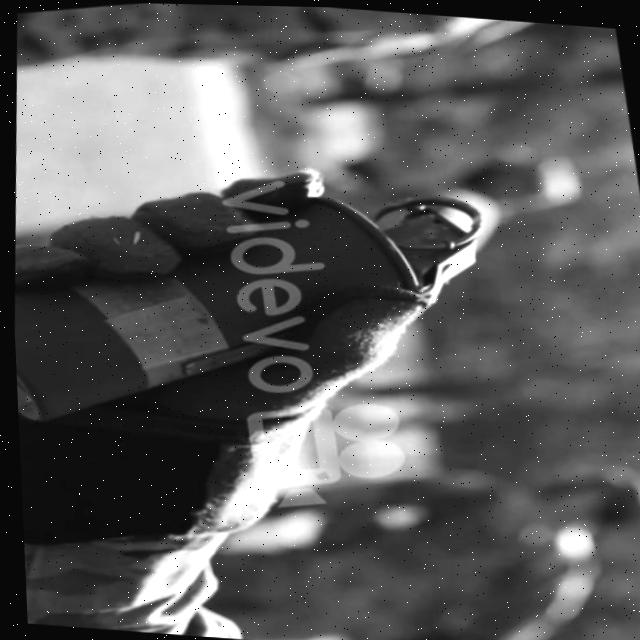grenade: (5, 130, 527, 466)
